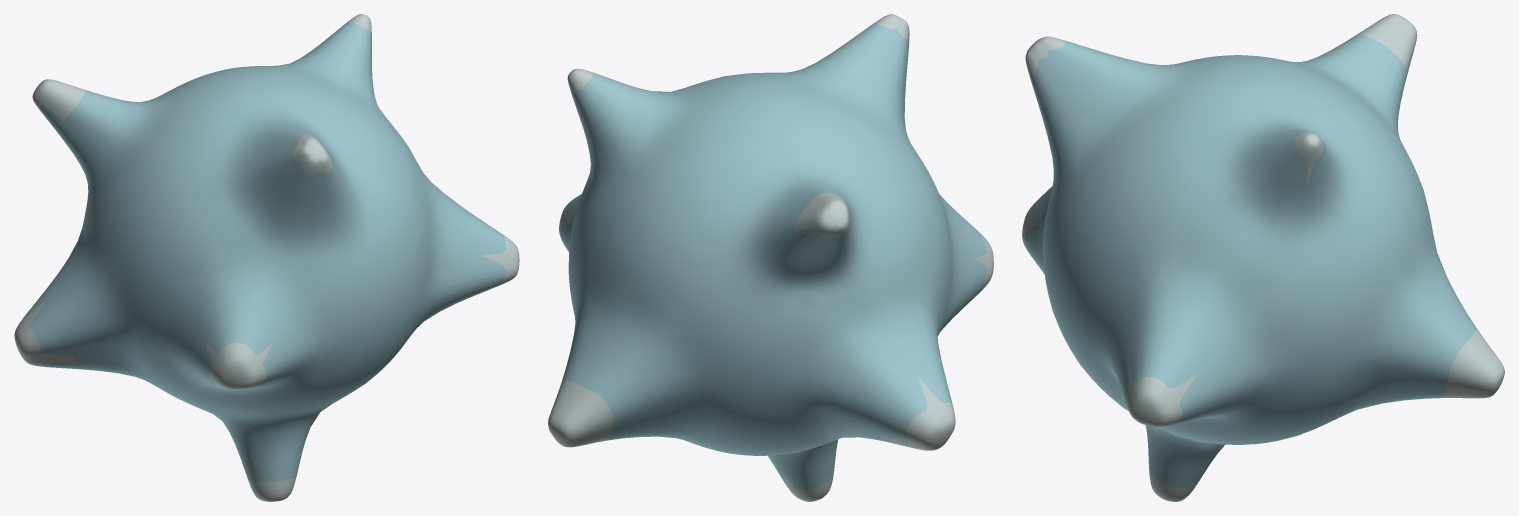
The model's file is Planet-EC1Lk2IamI.glb.
3 views of the same model, side by side, from view 1: azimuth 30°, elevation 25°; view 2: azimuth 150°, elevation 25°; view 3: azimuth 270°, elevation 25° (orthographic). The views are drawn at different scales.
Parts seen in each view (by area): view 1: Planet_4; view 2: Planet_4; view 3: Planet_4.
Part boxes in pixels (box(x1,y1,x2,y2)): Planet_4: box(14, 14, 519, 501); Planet_4: box(548, 14, 993, 501); Planet_4: box(1022, 14, 1504, 501).
Bounding box in the file's own units: 4.49 × 4.09 × 3.97.
Materials: 1 (1 with a texture image).
